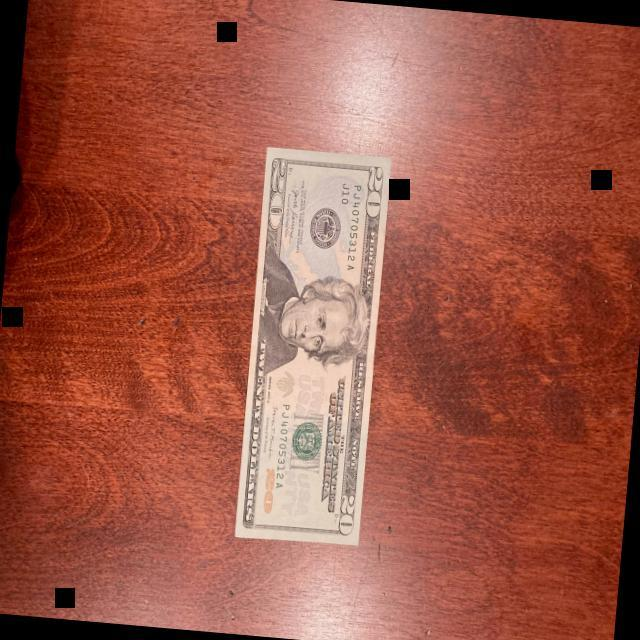twenty: (230, 145, 392, 549)
